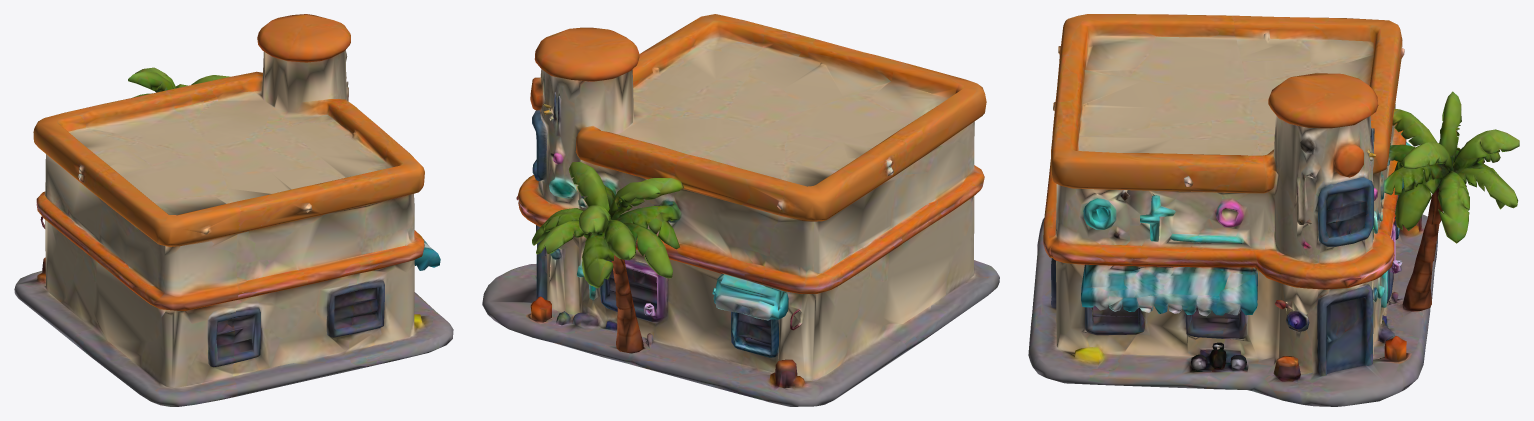
Rendered from corner-arcade.glb.
The picture shows the model from 3 angles, left to right: view 1: azimuth 30°, elevation 25°; view 2: azimuth 150°, elevation 25°; view 3: azimuth 270°, elevation 25°; orthographic projection. The views are drawn at different scales.
Visible parts, largest first — view 1: tripo_node_bbae5180-cb17-4b6f-93a1-461609294f1d; view 2: tripo_node_bbae5180-cb17-4b6f-93a1-461609294f1d; view 3: tripo_node_bbae5180-cb17-4b6f-93a1-461609294f1d.
Boxes of the visible parts, left/top/right/bottom form: tripo_node_bbae5180-cb17-4b6f-93a1-461609294f1d: left=14, top=14, right=453, bottom=406; tripo_node_bbae5180-cb17-4b6f-93a1-461609294f1d: left=482, top=14, right=999, bottom=406; tripo_node_bbae5180-cb17-4b6f-93a1-461609294f1d: left=1028, top=14, right=1519, bottom=406.
Bounding box in the file's own units: 0.9189 × 0.5986 × 0.9789.
Materials: 1 (1 with a texture image).
